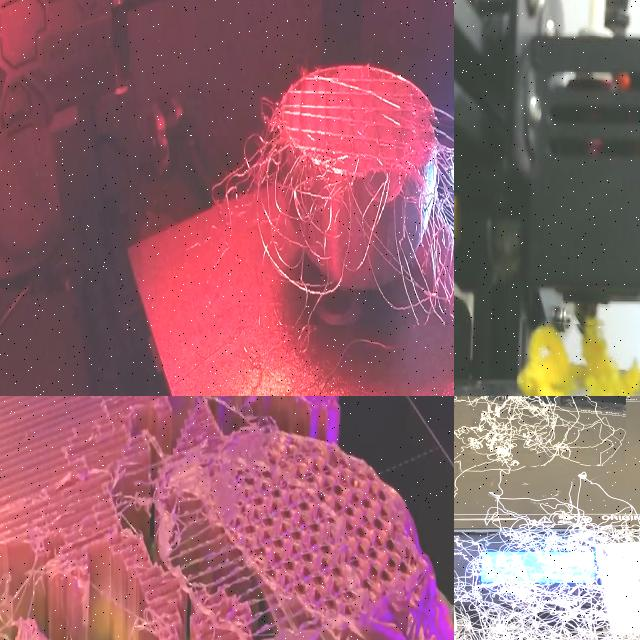spaghetti: (212, 102, 454, 325), (454, 517, 640, 640), (461, 396, 626, 466), (517, 323, 640, 396), (126, 585, 188, 640), (0, 568, 47, 640), (112, 478, 169, 534), (141, 415, 171, 471)
